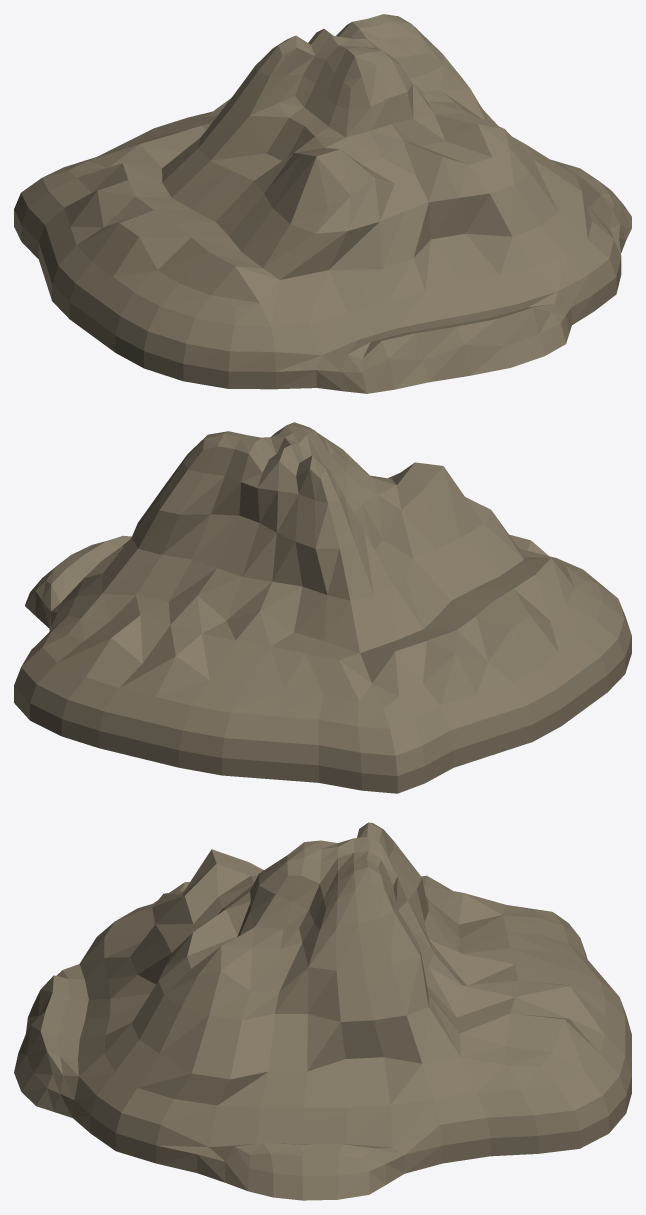
File: Hill_05.glb
3 views of the same model, one above another, from view 1: azimuth 30°, elevation 25°; view 2: azimuth 150°, elevation 25°; view 3: azimuth 270°, elevation 25° (orthographic). The views are drawn at different scales.
Visible parts, largest first — view 1: Hill_temperate_climate_005; view 2: Hill_temperate_climate_005; view 3: Hill_temperate_climate_005.
Boxes of the visible parts, x1,y1,x2,y2 form: Hill_temperate_climate_005: (14,14,631,393); Hill_temperate_climate_005: (14,422,631,793); Hill_temperate_climate_005: (14,822,631,1200).
Bounding box in the file's own units: 30.83 × 12.09 × 29.75.
Materials: 1 (1 with a texture image).
